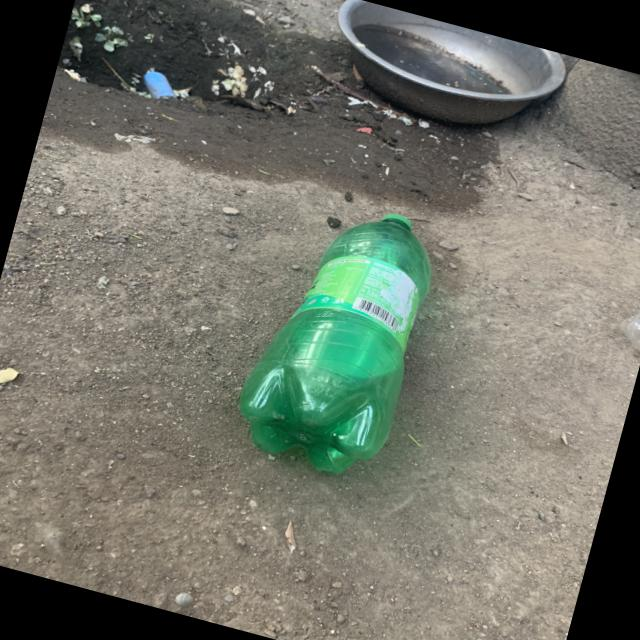Bottle: (238, 214, 430, 473)
